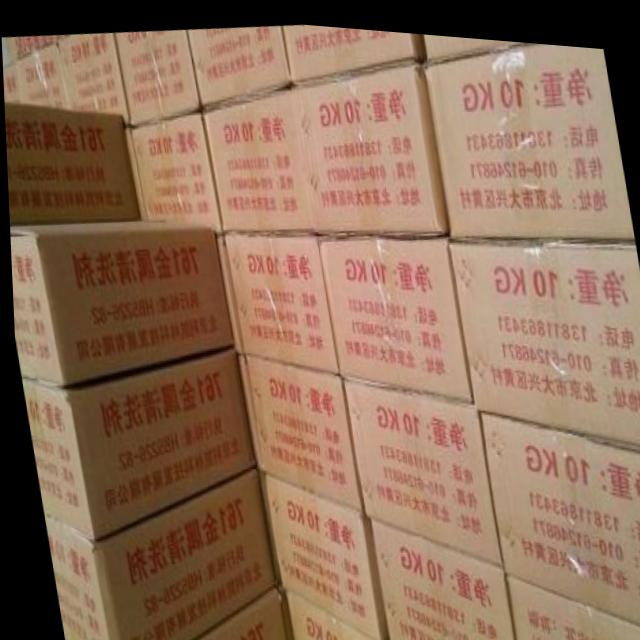box: (19, 341, 252, 541), (422, 34, 633, 233), (39, 462, 270, 640), (446, 232, 640, 439), (8, 218, 230, 386), (474, 402, 640, 616), (338, 370, 498, 560), (290, 57, 448, 233), (314, 230, 471, 396), (253, 466, 383, 639), (240, 347, 360, 511), (366, 513, 511, 640), (201, 79, 313, 231), (4, 102, 137, 224), (222, 230, 336, 370), (122, 107, 222, 228), (499, 566, 640, 640), (186, 20, 291, 107), (281, 19, 427, 79), (114, 28, 200, 123), (55, 30, 130, 124), (180, 580, 281, 640), (280, 587, 384, 640), (18, 38, 69, 108), (213, 230, 241, 351), (423, 27, 529, 57), (233, 349, 258, 468), (3, 33, 64, 63), (2, 58, 21, 103), (274, 587, 289, 640)
